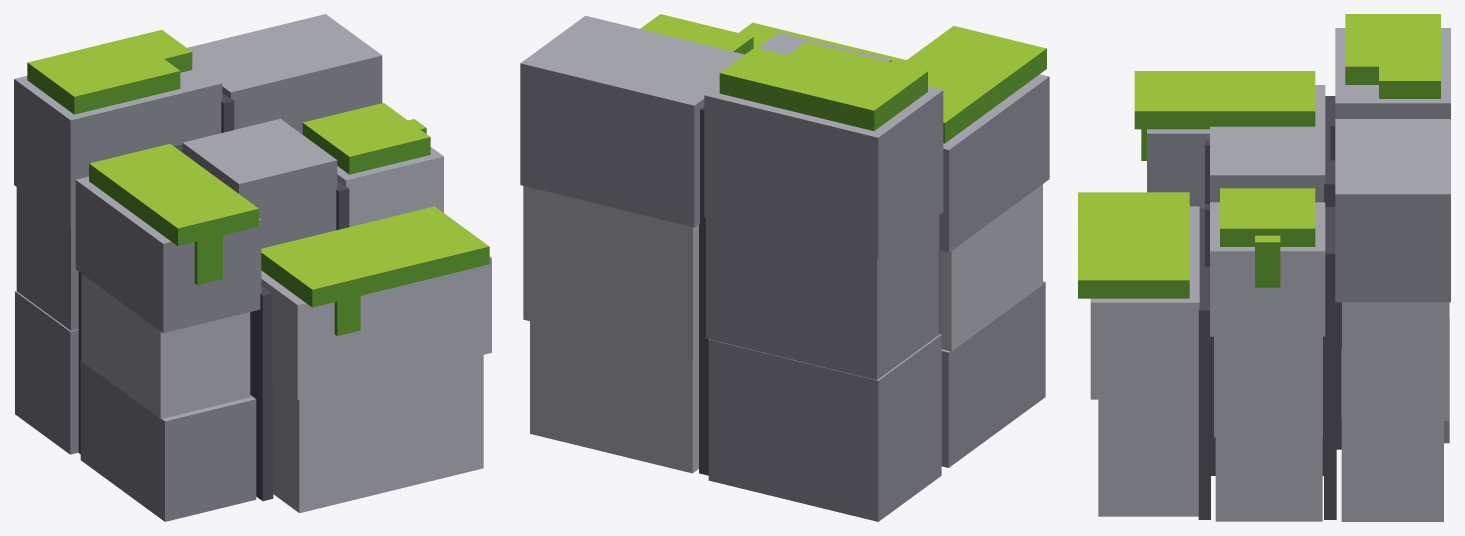
Rendered from Lobby_CliffBlock.glb.
3 views of the same model, side by side, from view 1: azimuth 30°, elevation 25°; view 2: azimuth 150°, elevation 25°; view 3: azimuth 270°, elevation 25° (orthographic). The views are drawn at different scales.
Visible parts, largest first — view 1: CliffBlock_stoneLight, CliffBlock_stoneMid, CliffBlock_mossLime, CliffBlock_moss, CliffBlock_stoneDark; view 2: CliffBlock_stoneMid, CliffBlock_stoneLight, CliffBlock_mossLime, CliffBlock_moss, CliffBlock_stoneDark; view 3: CliffBlock_stoneLight, CliffBlock_mossLime, CliffBlock_stoneMid, CliffBlock_stoneDark, CliffBlock_moss.
Boxes of the visible parts, x1,y1,x2,y2 form: CliffBlock_stoneLight: (14,14,491,513); CliffBlock_stoneMid: (14,55,382,521); CliffBlock_mossLime: (28,30,489,289); CliffBlock_moss: (27,52,489,335); CliffBlock_stoneDark: (78,93,349,501); CliffBlock_stoneMid: (520,60,1049,521); CliffBlock_stoneLight: (521,15,1049,473); CliffBlock_mossLime: (640,14,1046,122); CliffBlock_moss: (719,37,1046,143); CliffBlock_stoneDark: (699,106,939,475); CliffBlock_stoneLight: (1090,28,1450,521); CliffBlock_mossLime: (1078,14,1440,280); CliffBlock_stoneMid: (1147,103,1450,443); CliffBlock_stoneDark: (1198,96,1341,519); CliffBlock_moss: (1078,66,1440,298).
Bounding box in the file's own units: 2.96 × 3.16 × 2.97.
